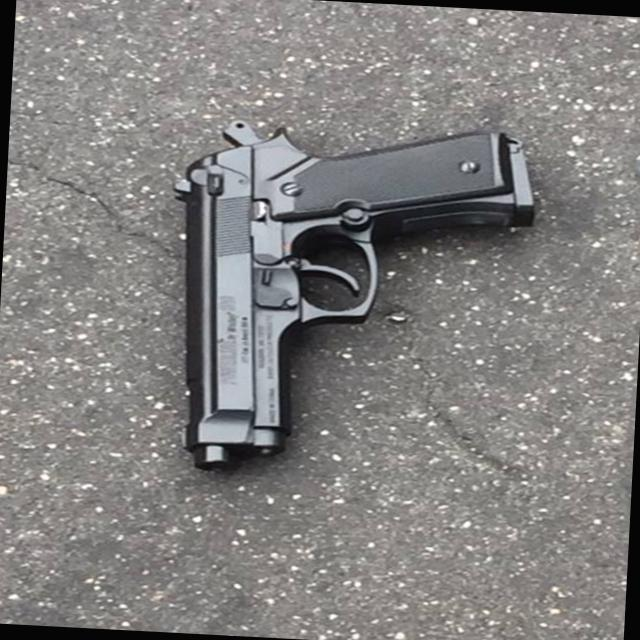handgun: (167, 88, 542, 494)
